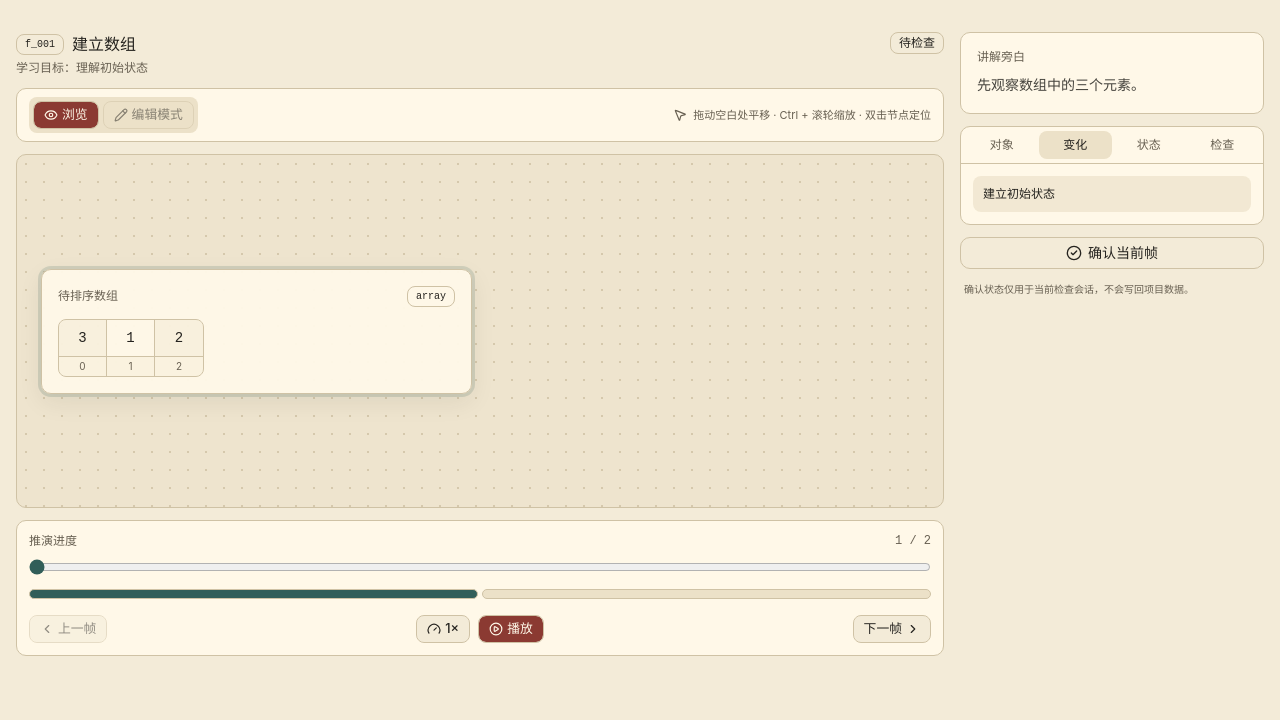
Test: FrameWorkbench › makes review scope explicit
The image size is (1280, 720).
Step 1. Click the button "确认当前帧" → [1112, 253], box [960,237,1264,269]
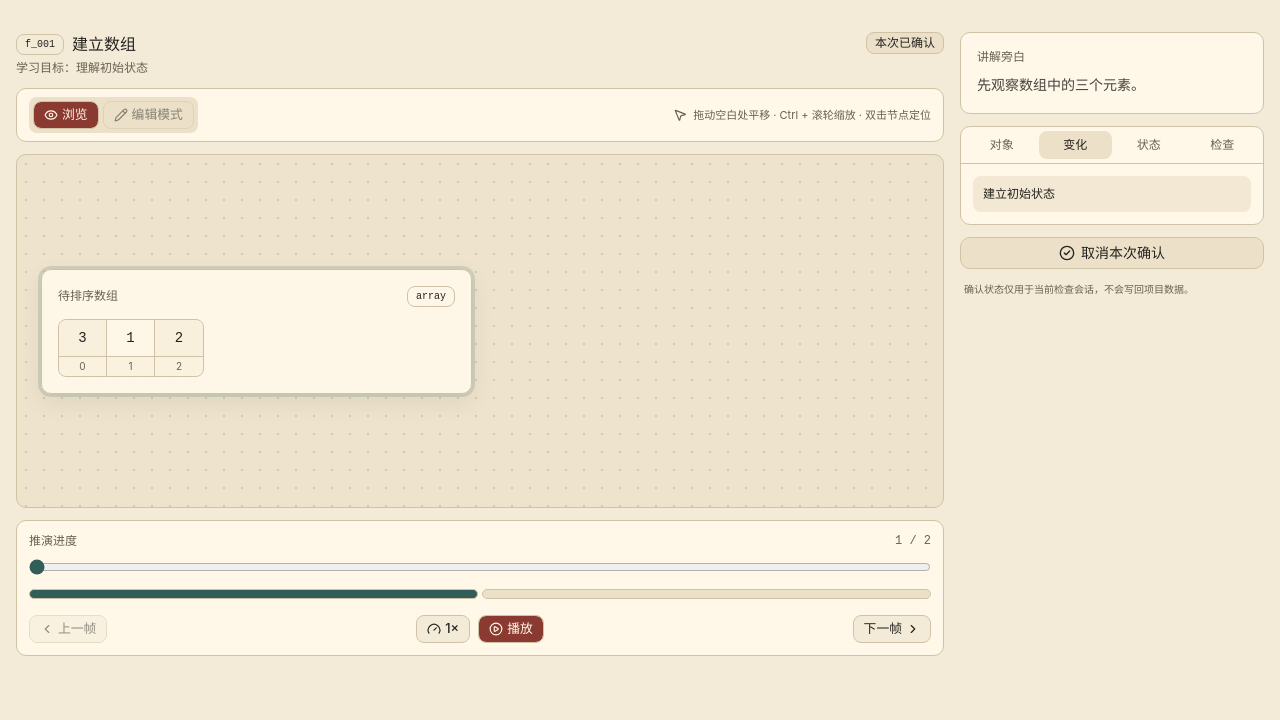
expect the text "确认状态仅用于当前检查会话，不会写回项目数据。" is shown: met, box [964,283,1194,295]
expect the text "本次已确认" is shown: met, box [866,32,944,54]
